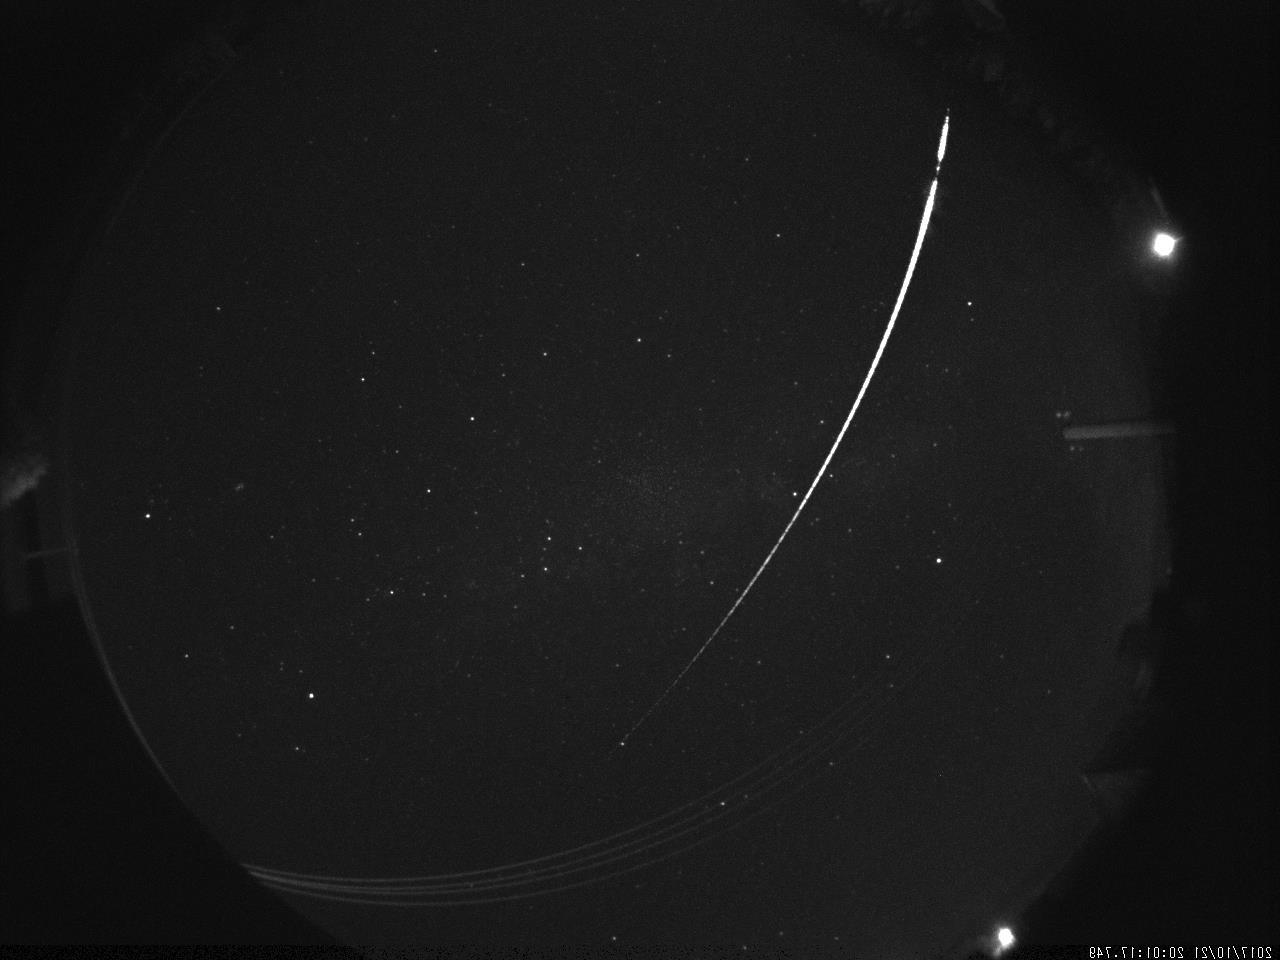meteor: (654, 111, 961, 702)
